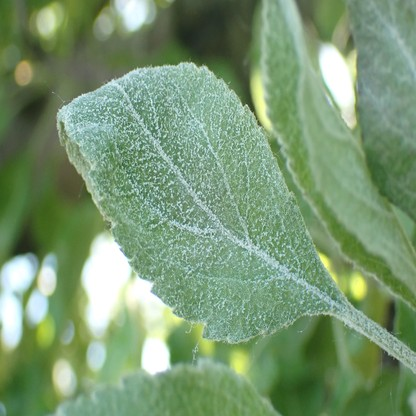powdery_mildew: (59, 63, 342, 347), (347, 1, 416, 218)
